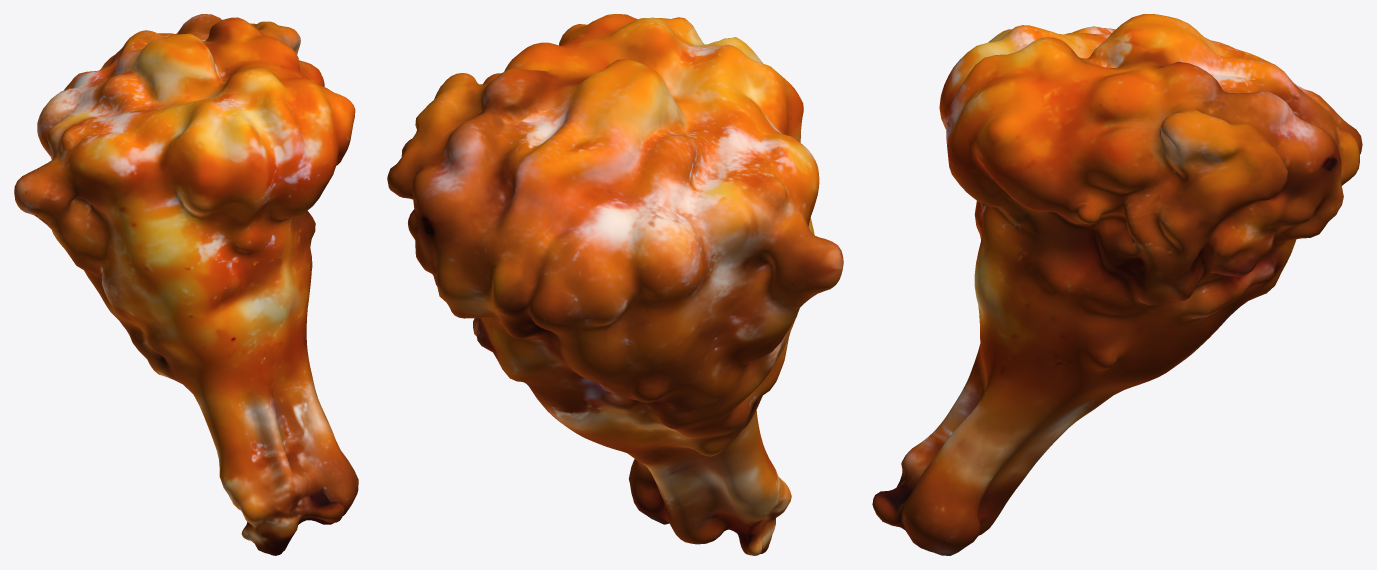
File: musloPolloModelo.glb
3 views of the same model, side by side, from view 1: azimuth 30°, elevation 25°; view 2: azimuth 150°, elevation 25°; view 3: azimuth 270°, elevation 25° (orthographic). The views are drawn at different scales.
Parts seen in each view (by area): view 1: model; view 2: model; view 3: model.
Boxes of the visible parts, left/top/right/bottom form: model: left=14, top=14, right=358, bottom=555; model: left=387, top=14, right=843, bottom=555; model: left=872, top=14, right=1362, bottom=555.
Bounding box in the file's own units: 1.38 × 1.89 × 1.63.
Materials: 1 (1 with a texture image).
